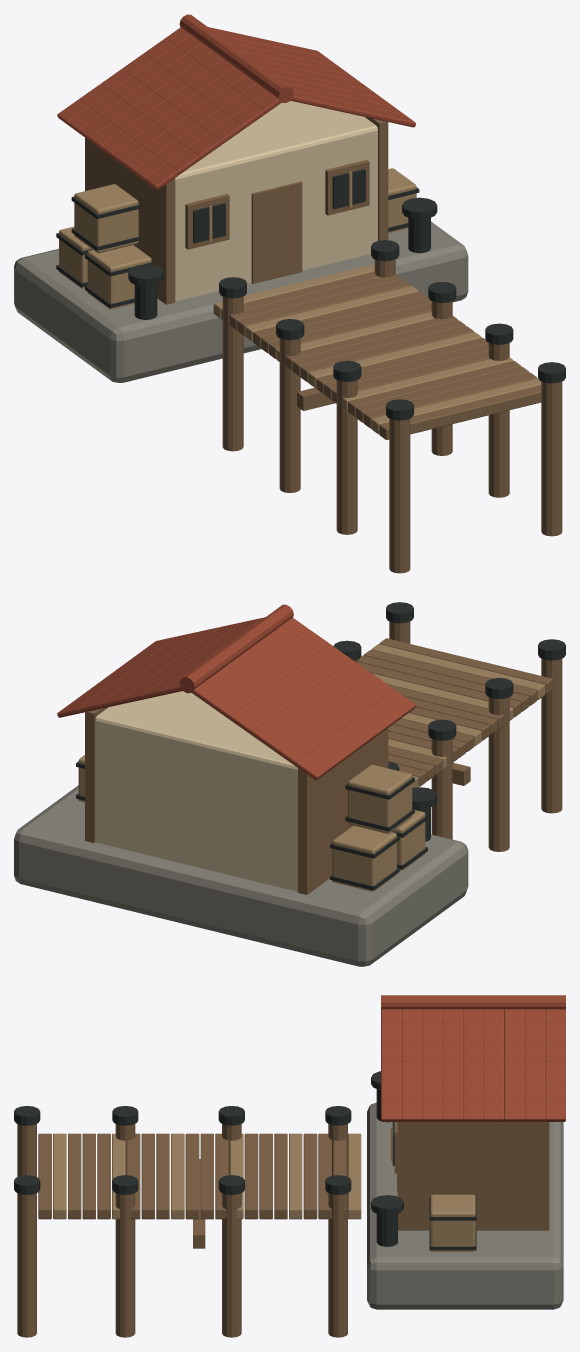
Rendered from harbor.glb.
3 renders of one model, top to bottom at view 1: azimuth 30°, elevation 25°; view 2: azimuth 150°, elevation 25°; view 3: azimuth 270°, elevation 25°, orthographic. The views are drawn at different scales.
Parts seen in each view (by area): view 1: Harbor; view 2: Harbor; view 3: Harbor.
Boxes of the visible parts, box(x1,y1,x2,y2) form: Harbor: box(14, 14, 565, 573); Harbor: box(14, 602, 565, 966); Harbor: box(14, 995, 565, 1337).
Size of the model in its own units: 4.7 by 4.08 by 6.74.
